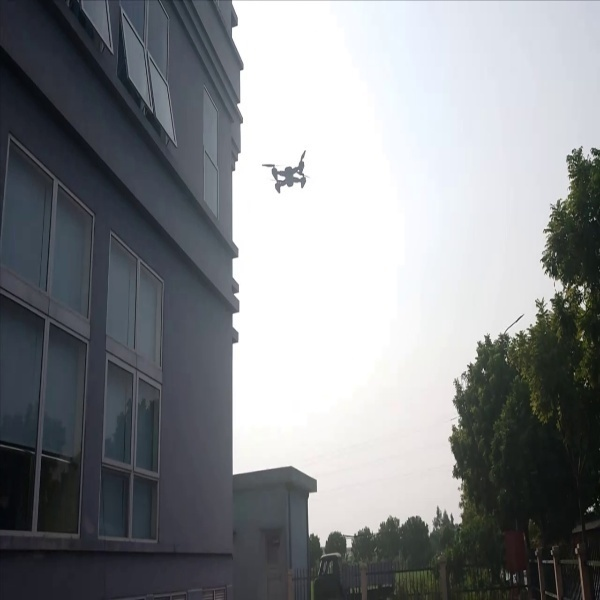drone: (253, 145, 322, 197)
